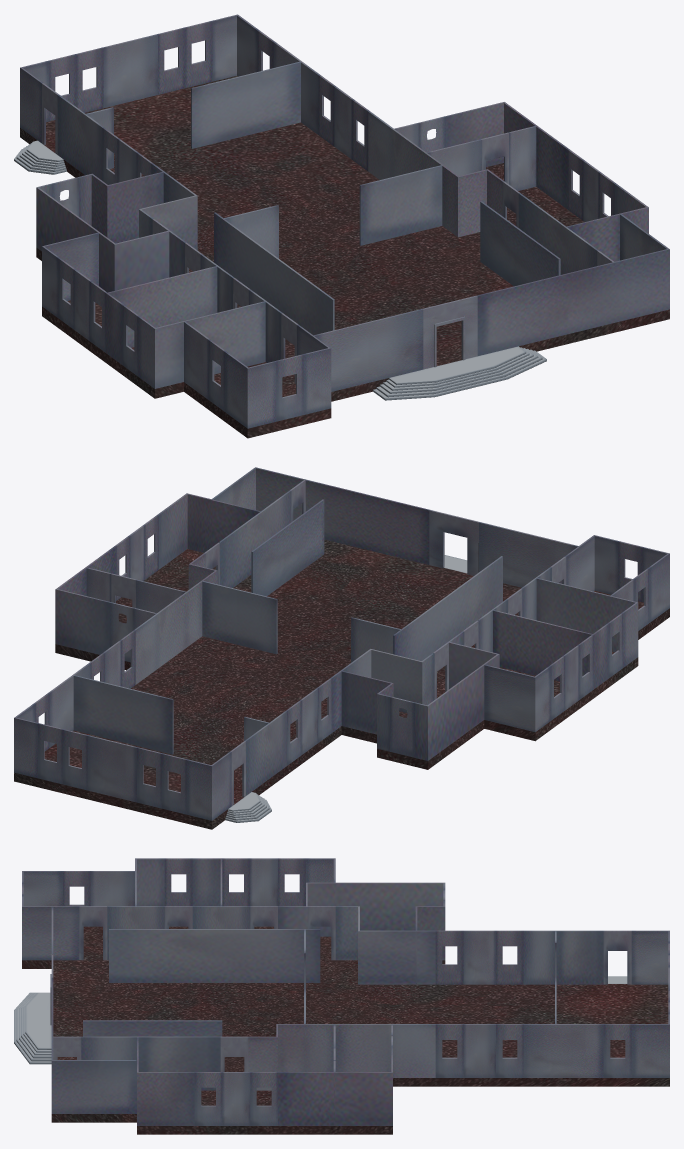
File: MansionSetToFace.fbx
3 renders of one model, top to bottom at view 1: azimuth 30°, elevation 25°; view 2: azimuth 150°, elevation 25°; view 3: azimuth 270°, elevation 25°, orthographic. The views are drawn at different scales.
Parts seen in each view (by area): view 1: MansionBase; view 2: MansionBase; view 3: MansionBase.
Boxes of the visible parts, x1,y1,x2,y2 form: MansionBase: [14, 14, 669, 438]; MansionBase: [14, 467, 669, 829]; MansionBase: [14, 858, 669, 1134].
Bounding box in the file's own units: 6956 × 937 × 9000.
